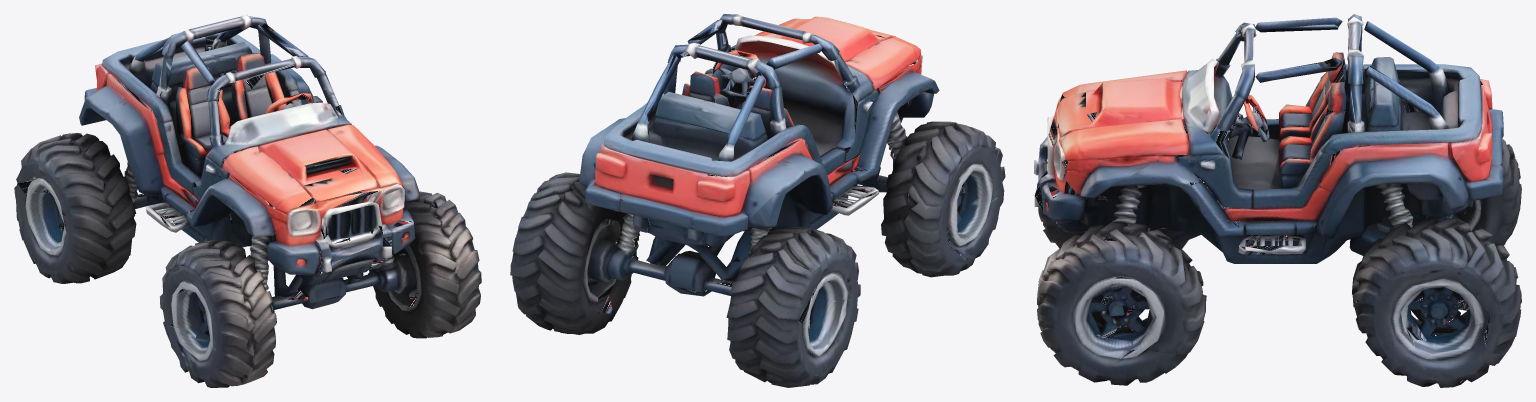
Rendered from titan-mobile.glb.
3 renders of one model, left to right at view 1: azimuth 30°, elevation 25°; view 2: azimuth 150°, elevation 25°; view 3: azimuth 270°, elevation 25°, orthographic. The views are drawn at different scales.
Visible parts, largest first — view 1: model; view 2: model; view 3: model.
Part boxes in pixels (x1=…): model: x1=14, y1=14, x2=481, y2=387; model: x1=510, y1=14, x2=1005, y2=387; model: x1=1034, y1=14, x2=1521, y2=387.
Bounding box in the file's own units: 1.36 × 1.23 × 1.89.
Materials: 1 (1 with a texture image).
